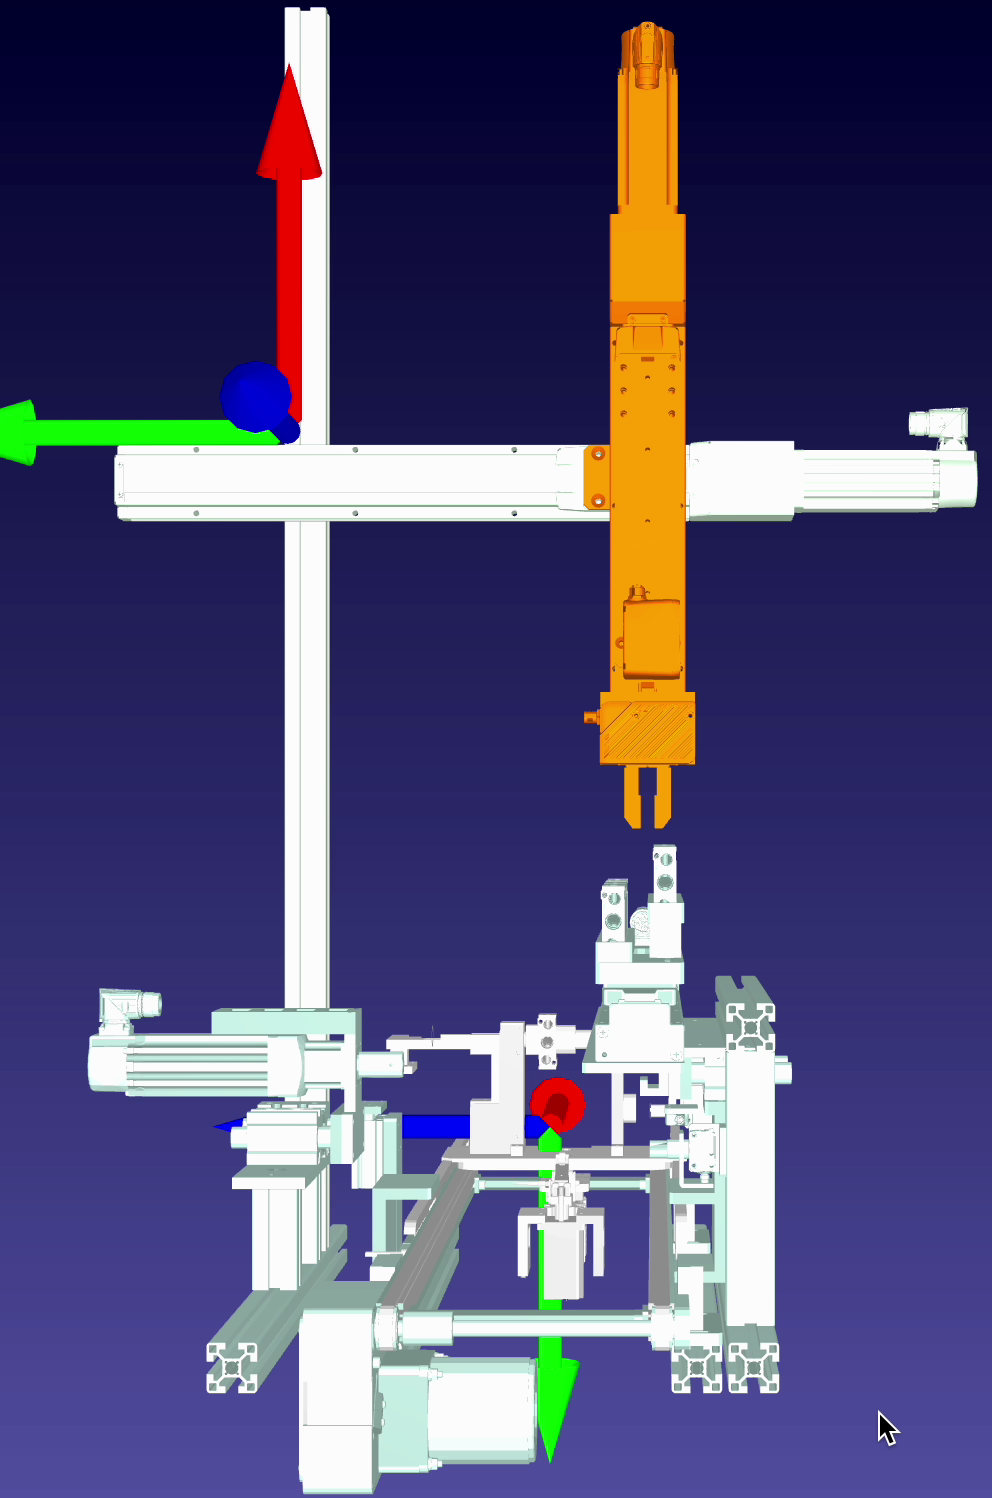Gripper: (590, 675, 702, 834)
